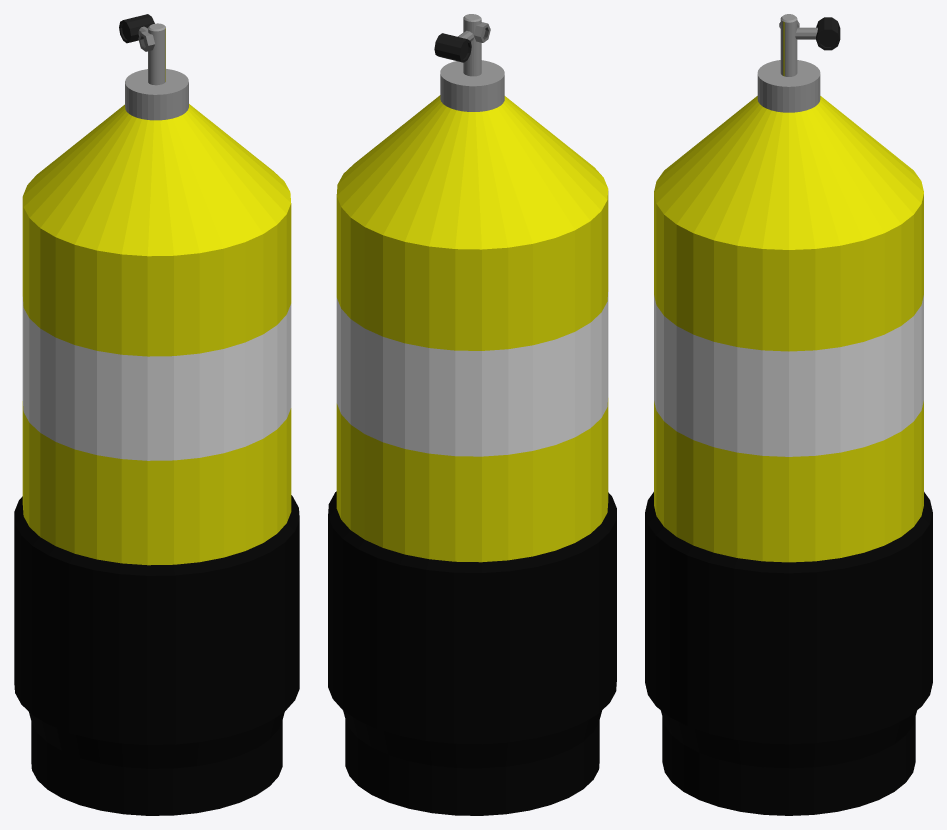
Rendered from FinalTank.fbx.
3 renders of one model, left to right at view 1: azimuth 30°, elevation 25°; view 2: azimuth 150°, elevation 25°; view 3: azimuth 270°, elevation 25°, orthographic.
Parts seen in each view (by area): view 1: Cylinder, Cylinder.002; view 2: Cylinder, Cylinder.002; view 3: Cylinder, Cylinder.002.
Boxes of the visible parts, x1,y1,x2,y2 form: Cylinder: (14, 23, 299, 815); Cylinder.002: (119, 14, 154, 43); Cylinder: (328, 14, 616, 815); Cylinder.002: (434, 33, 471, 62); Cylinder: (645, 14, 932, 815); Cylinder.002: (816, 17, 840, 50).
Bounding box in the file's own units: 196 × 555 × 194.
